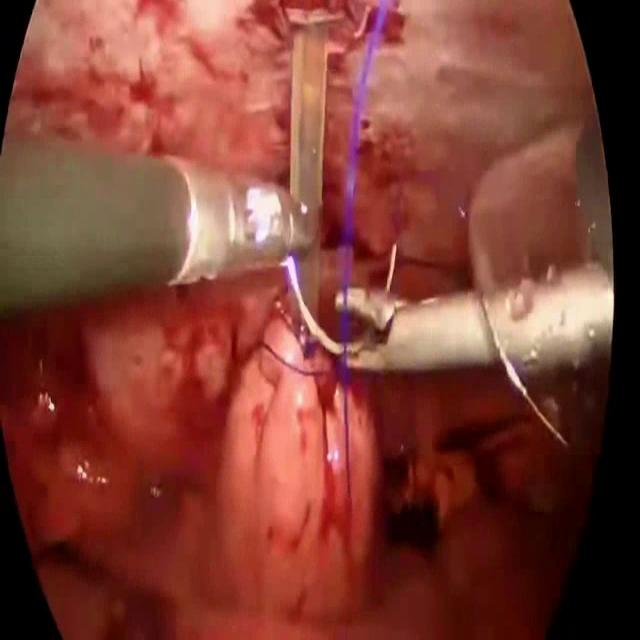surgical-area: (0, 0, 613, 639)
surgical-tool: (0, 139, 318, 317), (332, 262, 614, 376)
